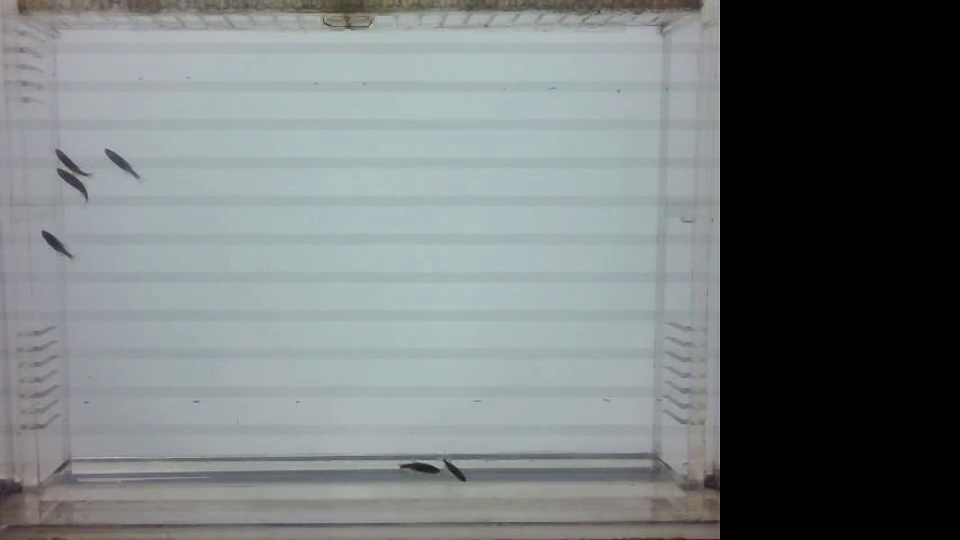fish: (100, 145, 144, 186), (52, 141, 96, 180), (44, 170, 88, 208), (36, 222, 72, 260), (440, 452, 468, 484), (392, 460, 444, 476)
